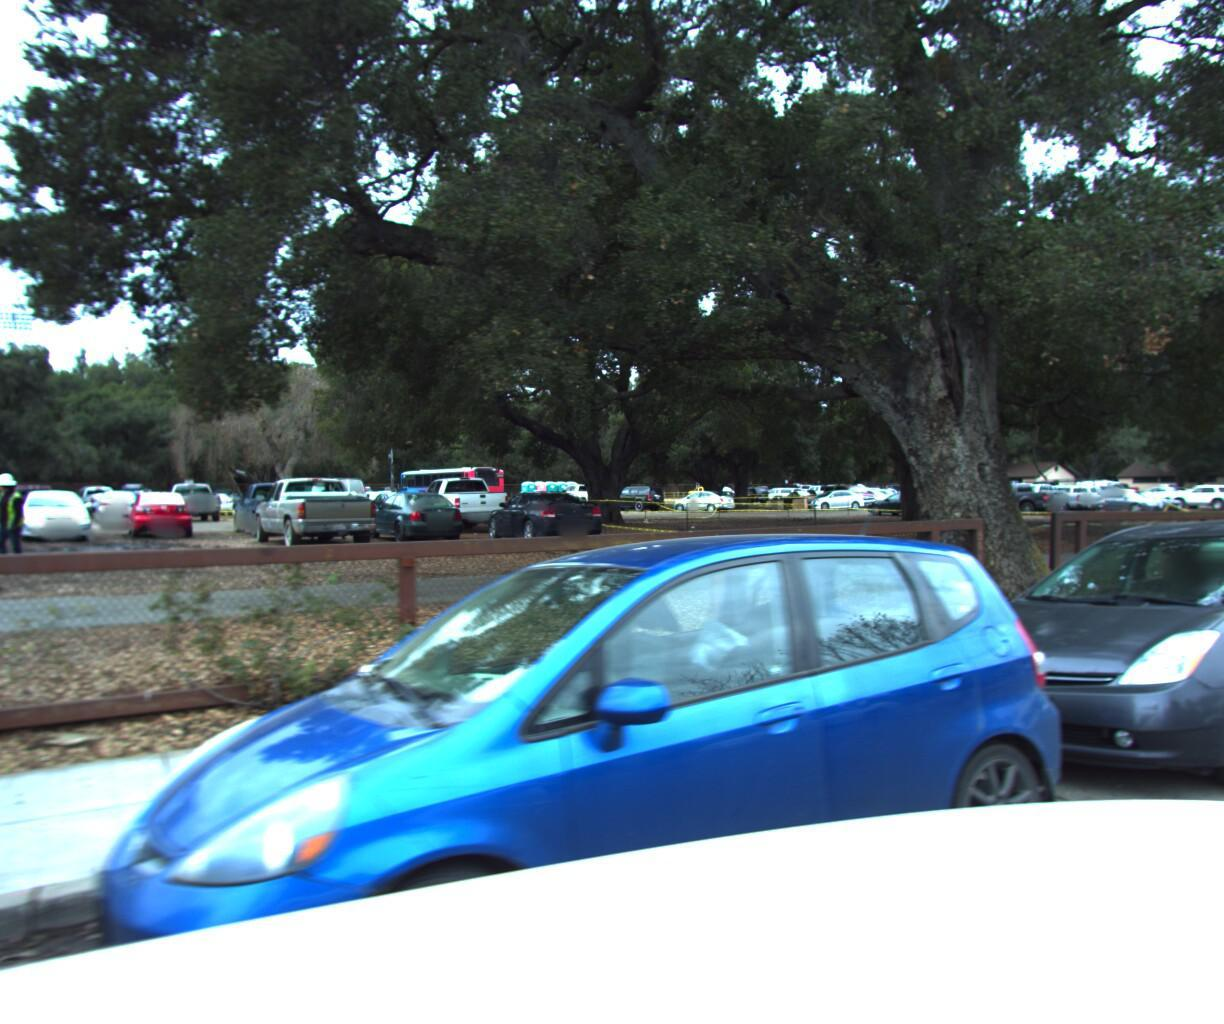car: (54, 513, 1125, 1024), (899, 500, 1224, 844)
